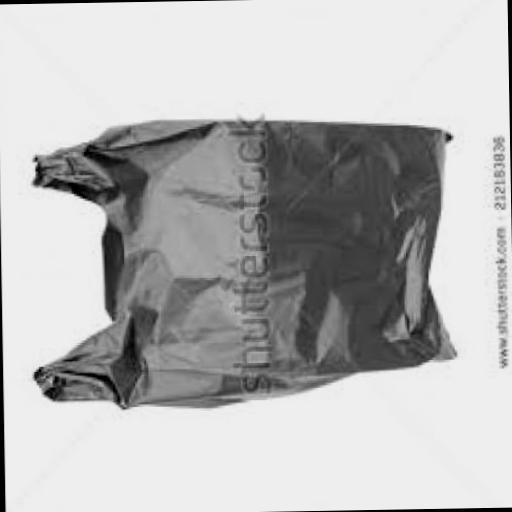plastic: (25, 118, 454, 413)
